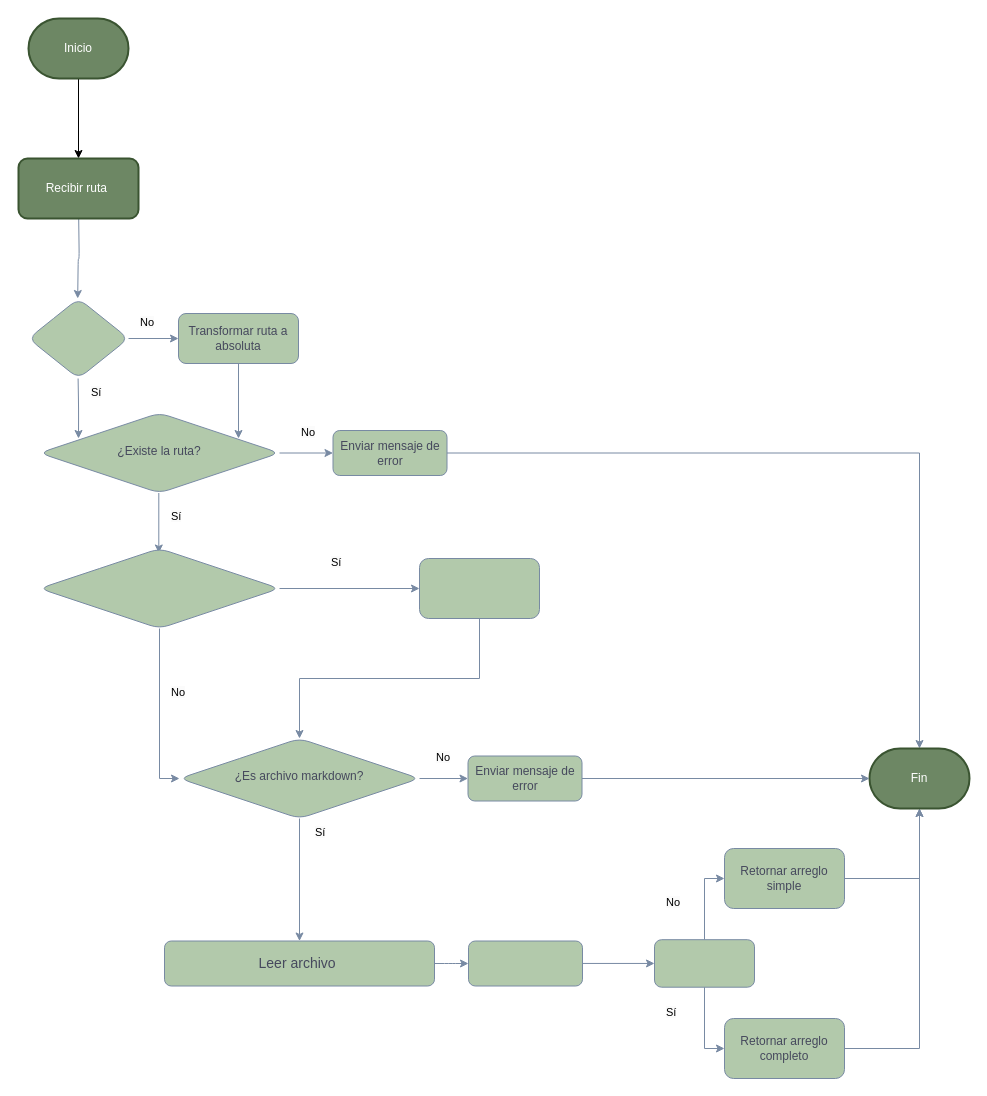
This 987x1096 diagram has some shape labels left out. The shapes that lost their labels are listed below. From the top down, each one's centre as x and y in pixels, then its label:
pixel 78 338: ¿Es absoluta?
pixel 159 588: ¿Es directorio?
pixel 479 588: Recorrer archivos
pixel 525 963: Extraer links
pixel 704 963: ¿Validar links?
